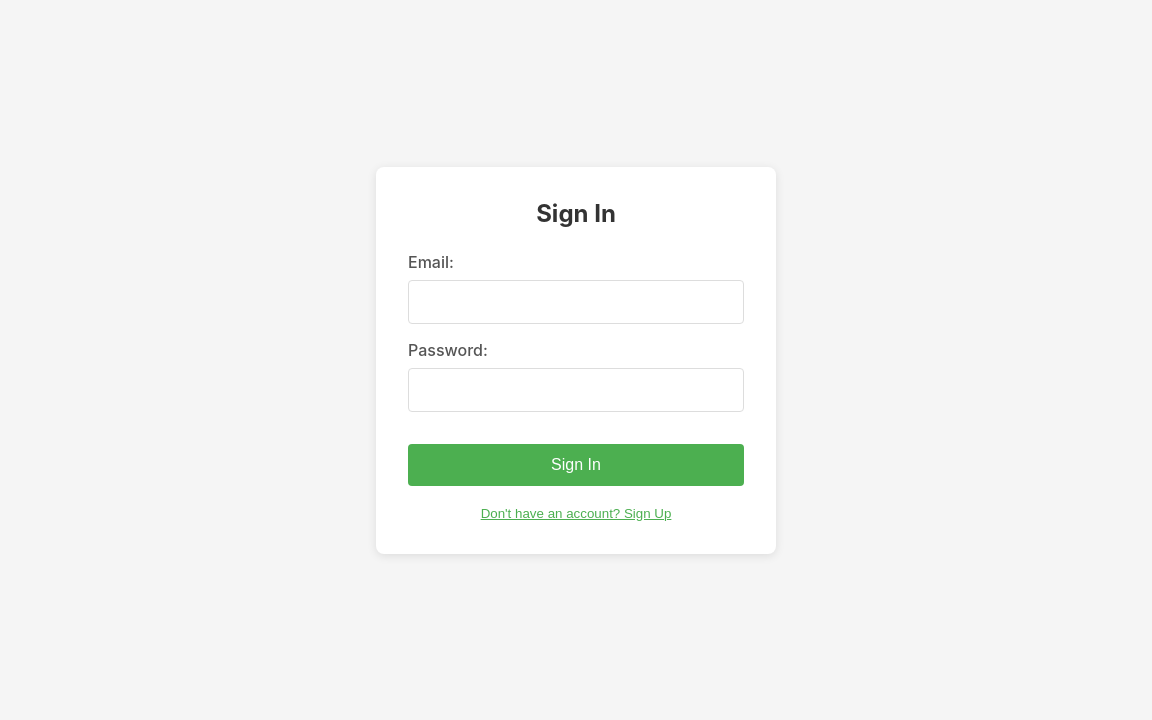
Edit Post › cancels editing without saving
In the field with id "email": (576, 302) [408,280,744,324], type "test@example.com"
In the password field labelled "Password:": (576, 390) [408,368,744,412], type "password123"
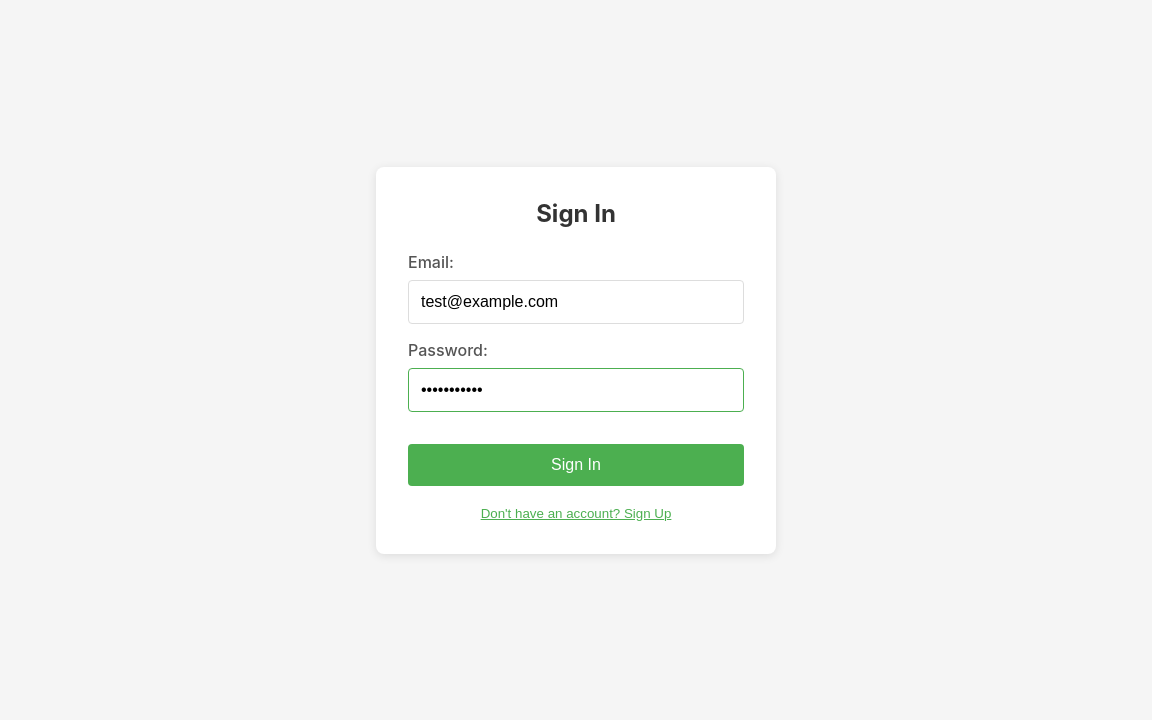
Click the submit button: (576, 465) [408,444,744,486]
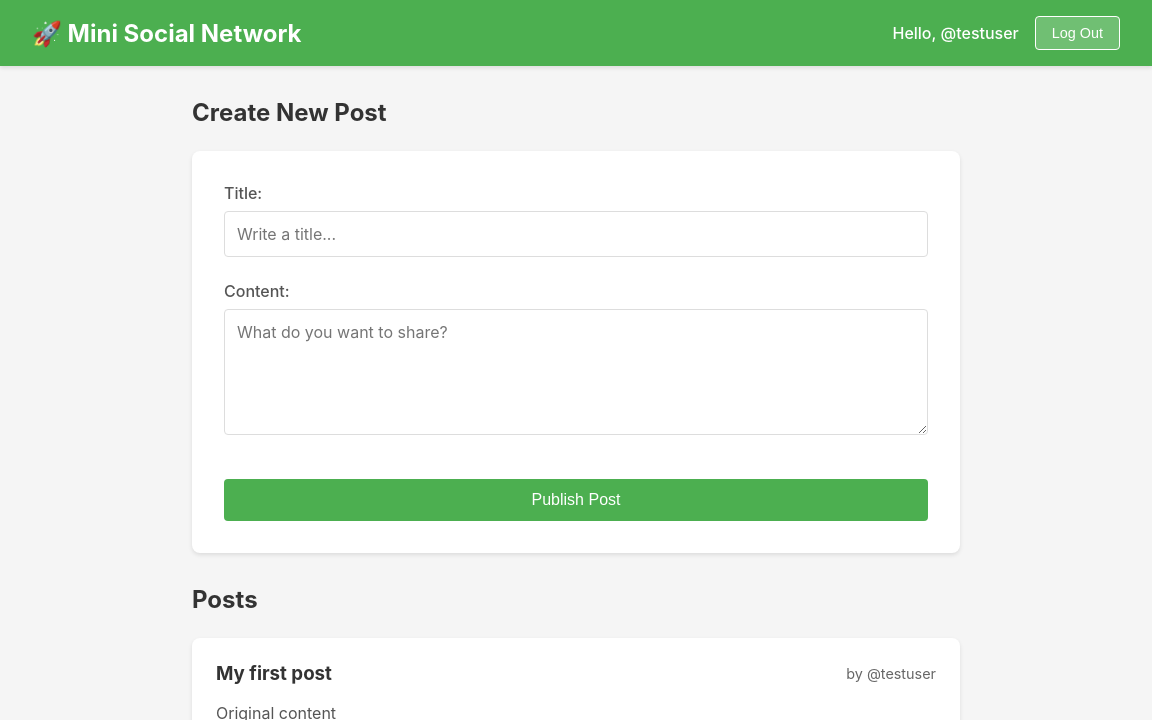
Click the heading "My first post": (274, 674) [216,662,332,685]
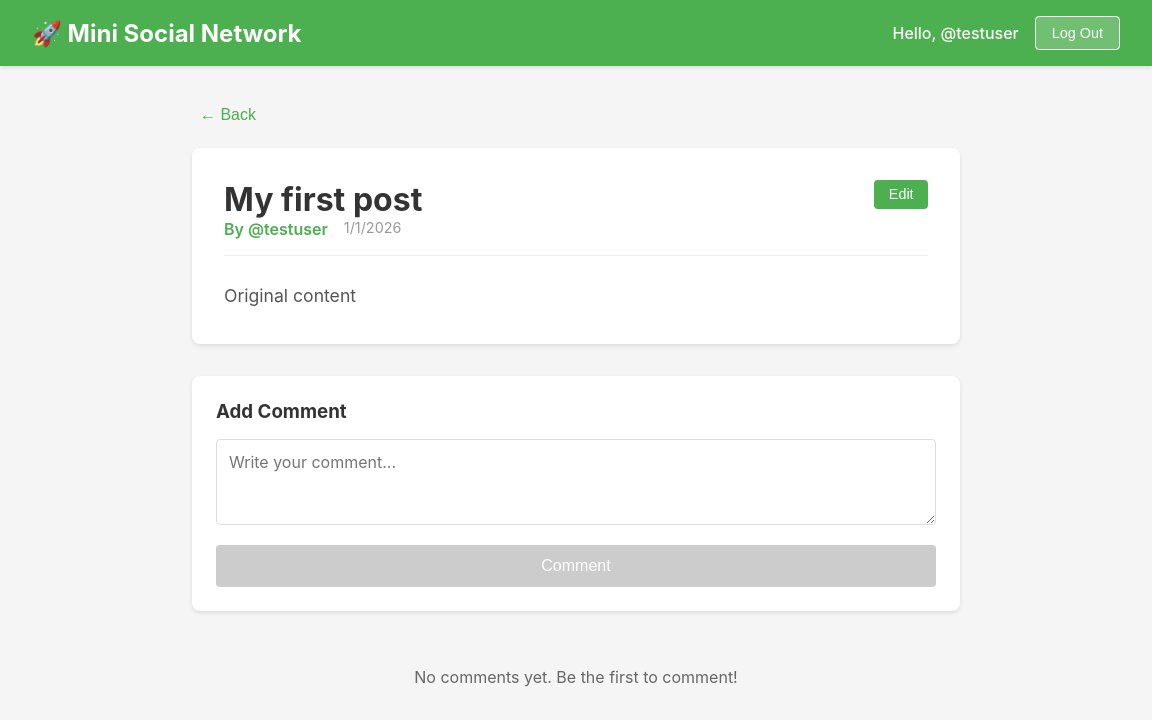
Expected: the button "← Back" is shown, [192,98,264,132]
Click the button "Edit": (901, 195) [874,180,928,209]
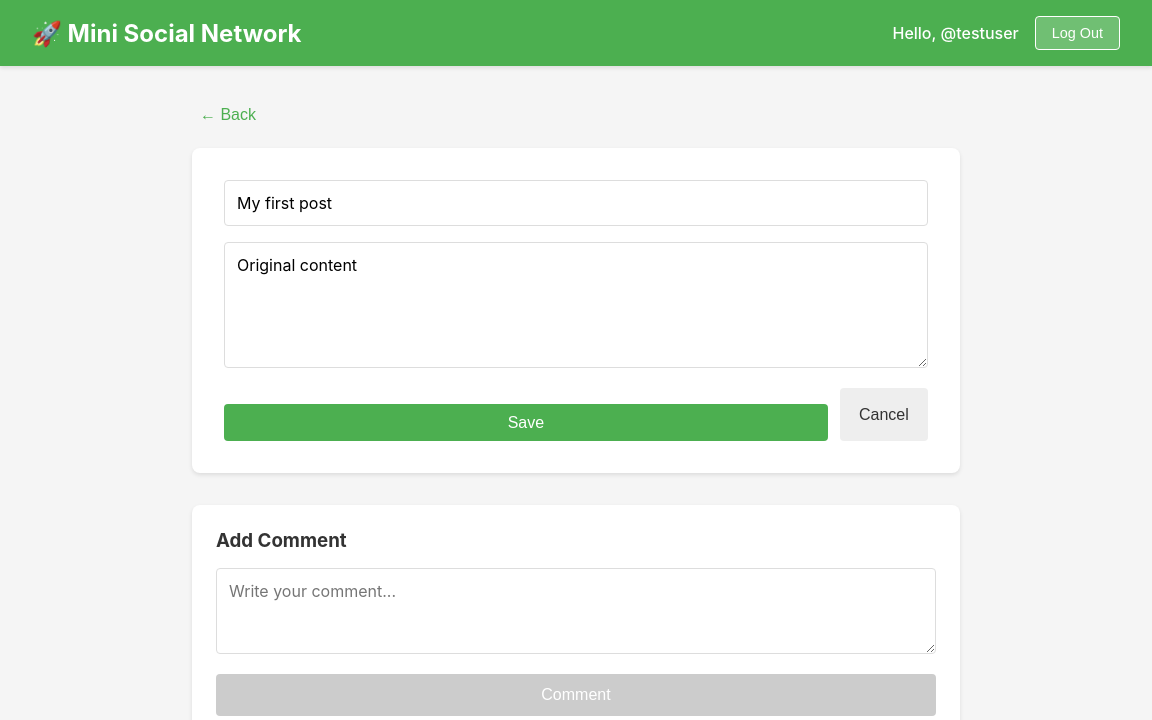
Replace the text in the field with "Discarded title": (576, 203) [224,180,928,226]
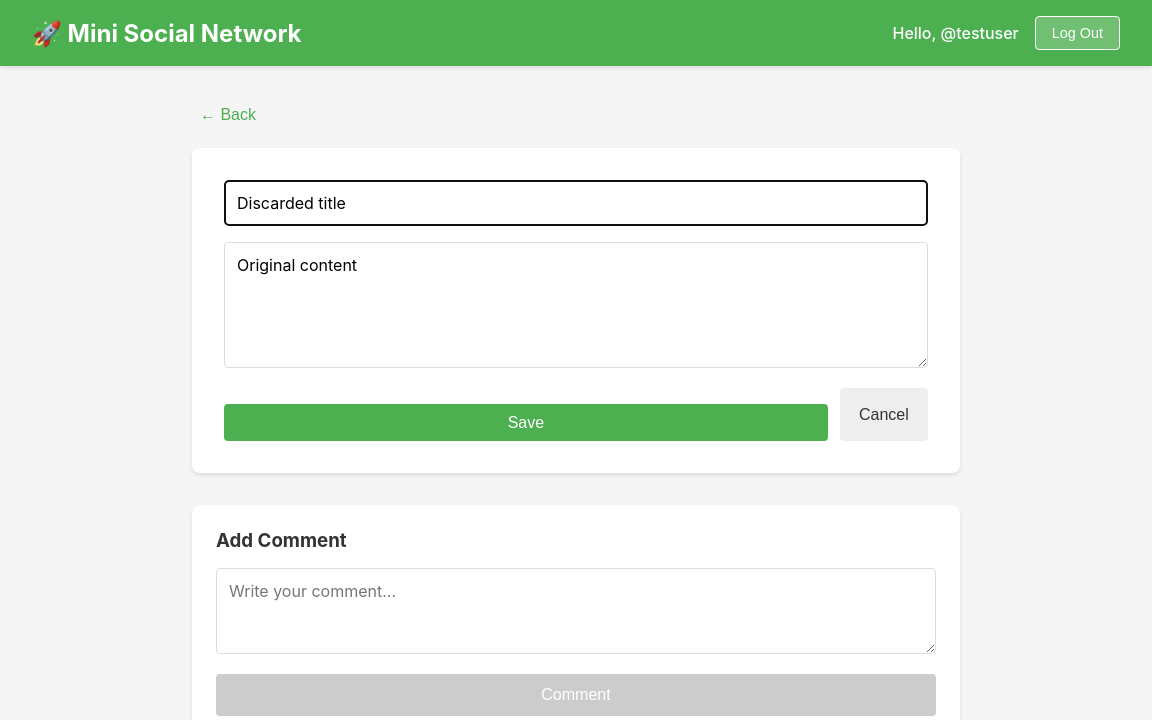
Click the button "Cancel": (884, 415) [840,388,928,441]
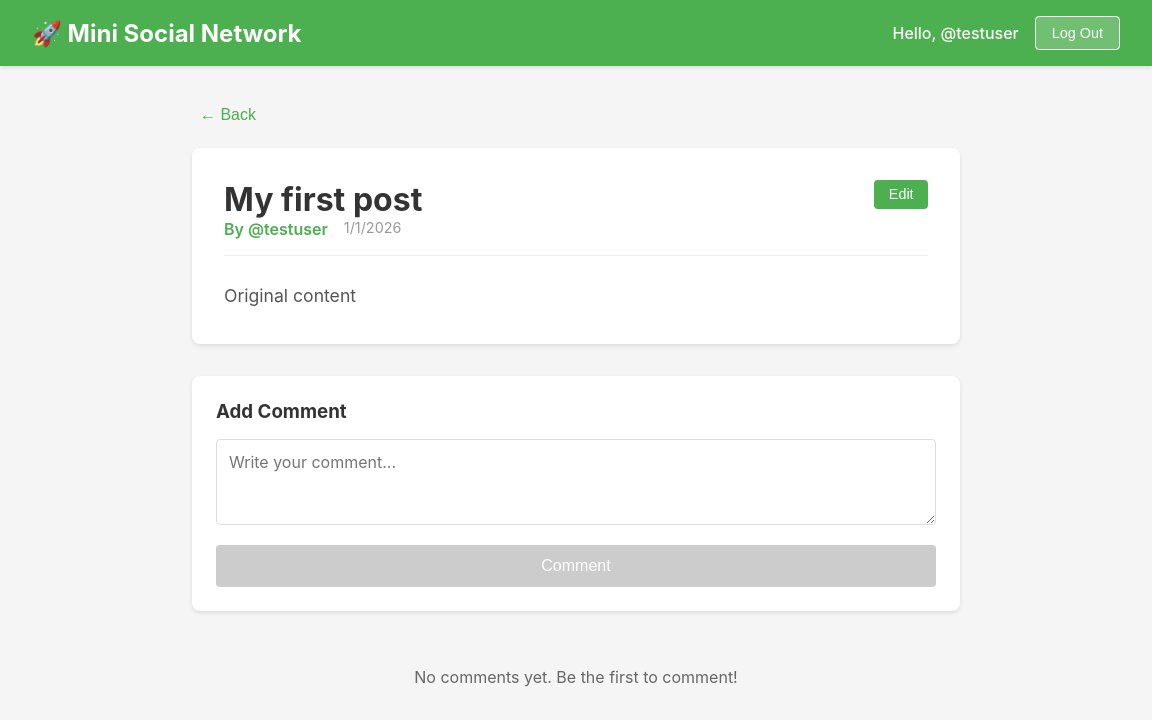
Expected: the form is gone
Expected: the heading "My first post" is shown, [224,180,422,219]
